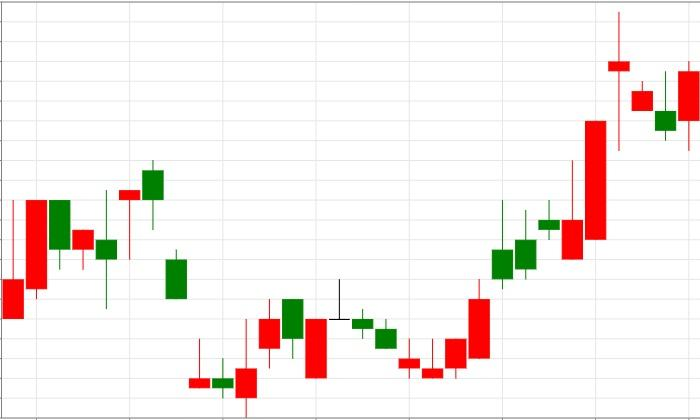inverse_hammer_rise: (142, 159, 258, 417)
